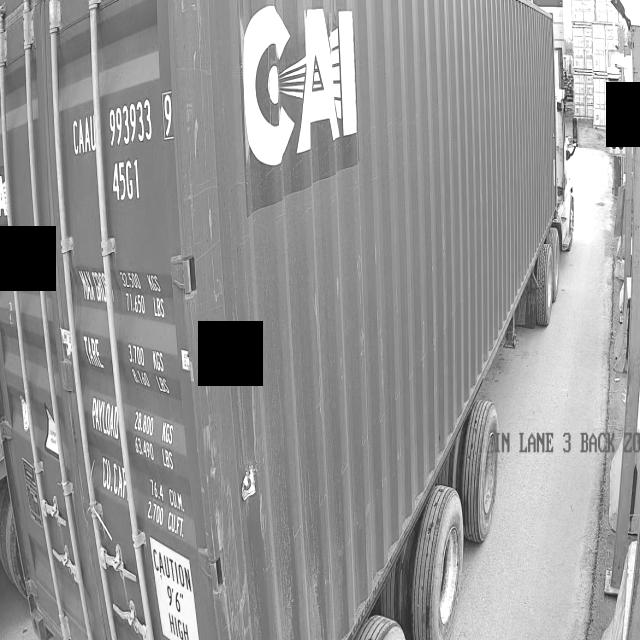container_company_logo: (229, 0, 395, 205)
container_number: (64, 68, 198, 640)
truck_with_container: (0, 0, 577, 640)
